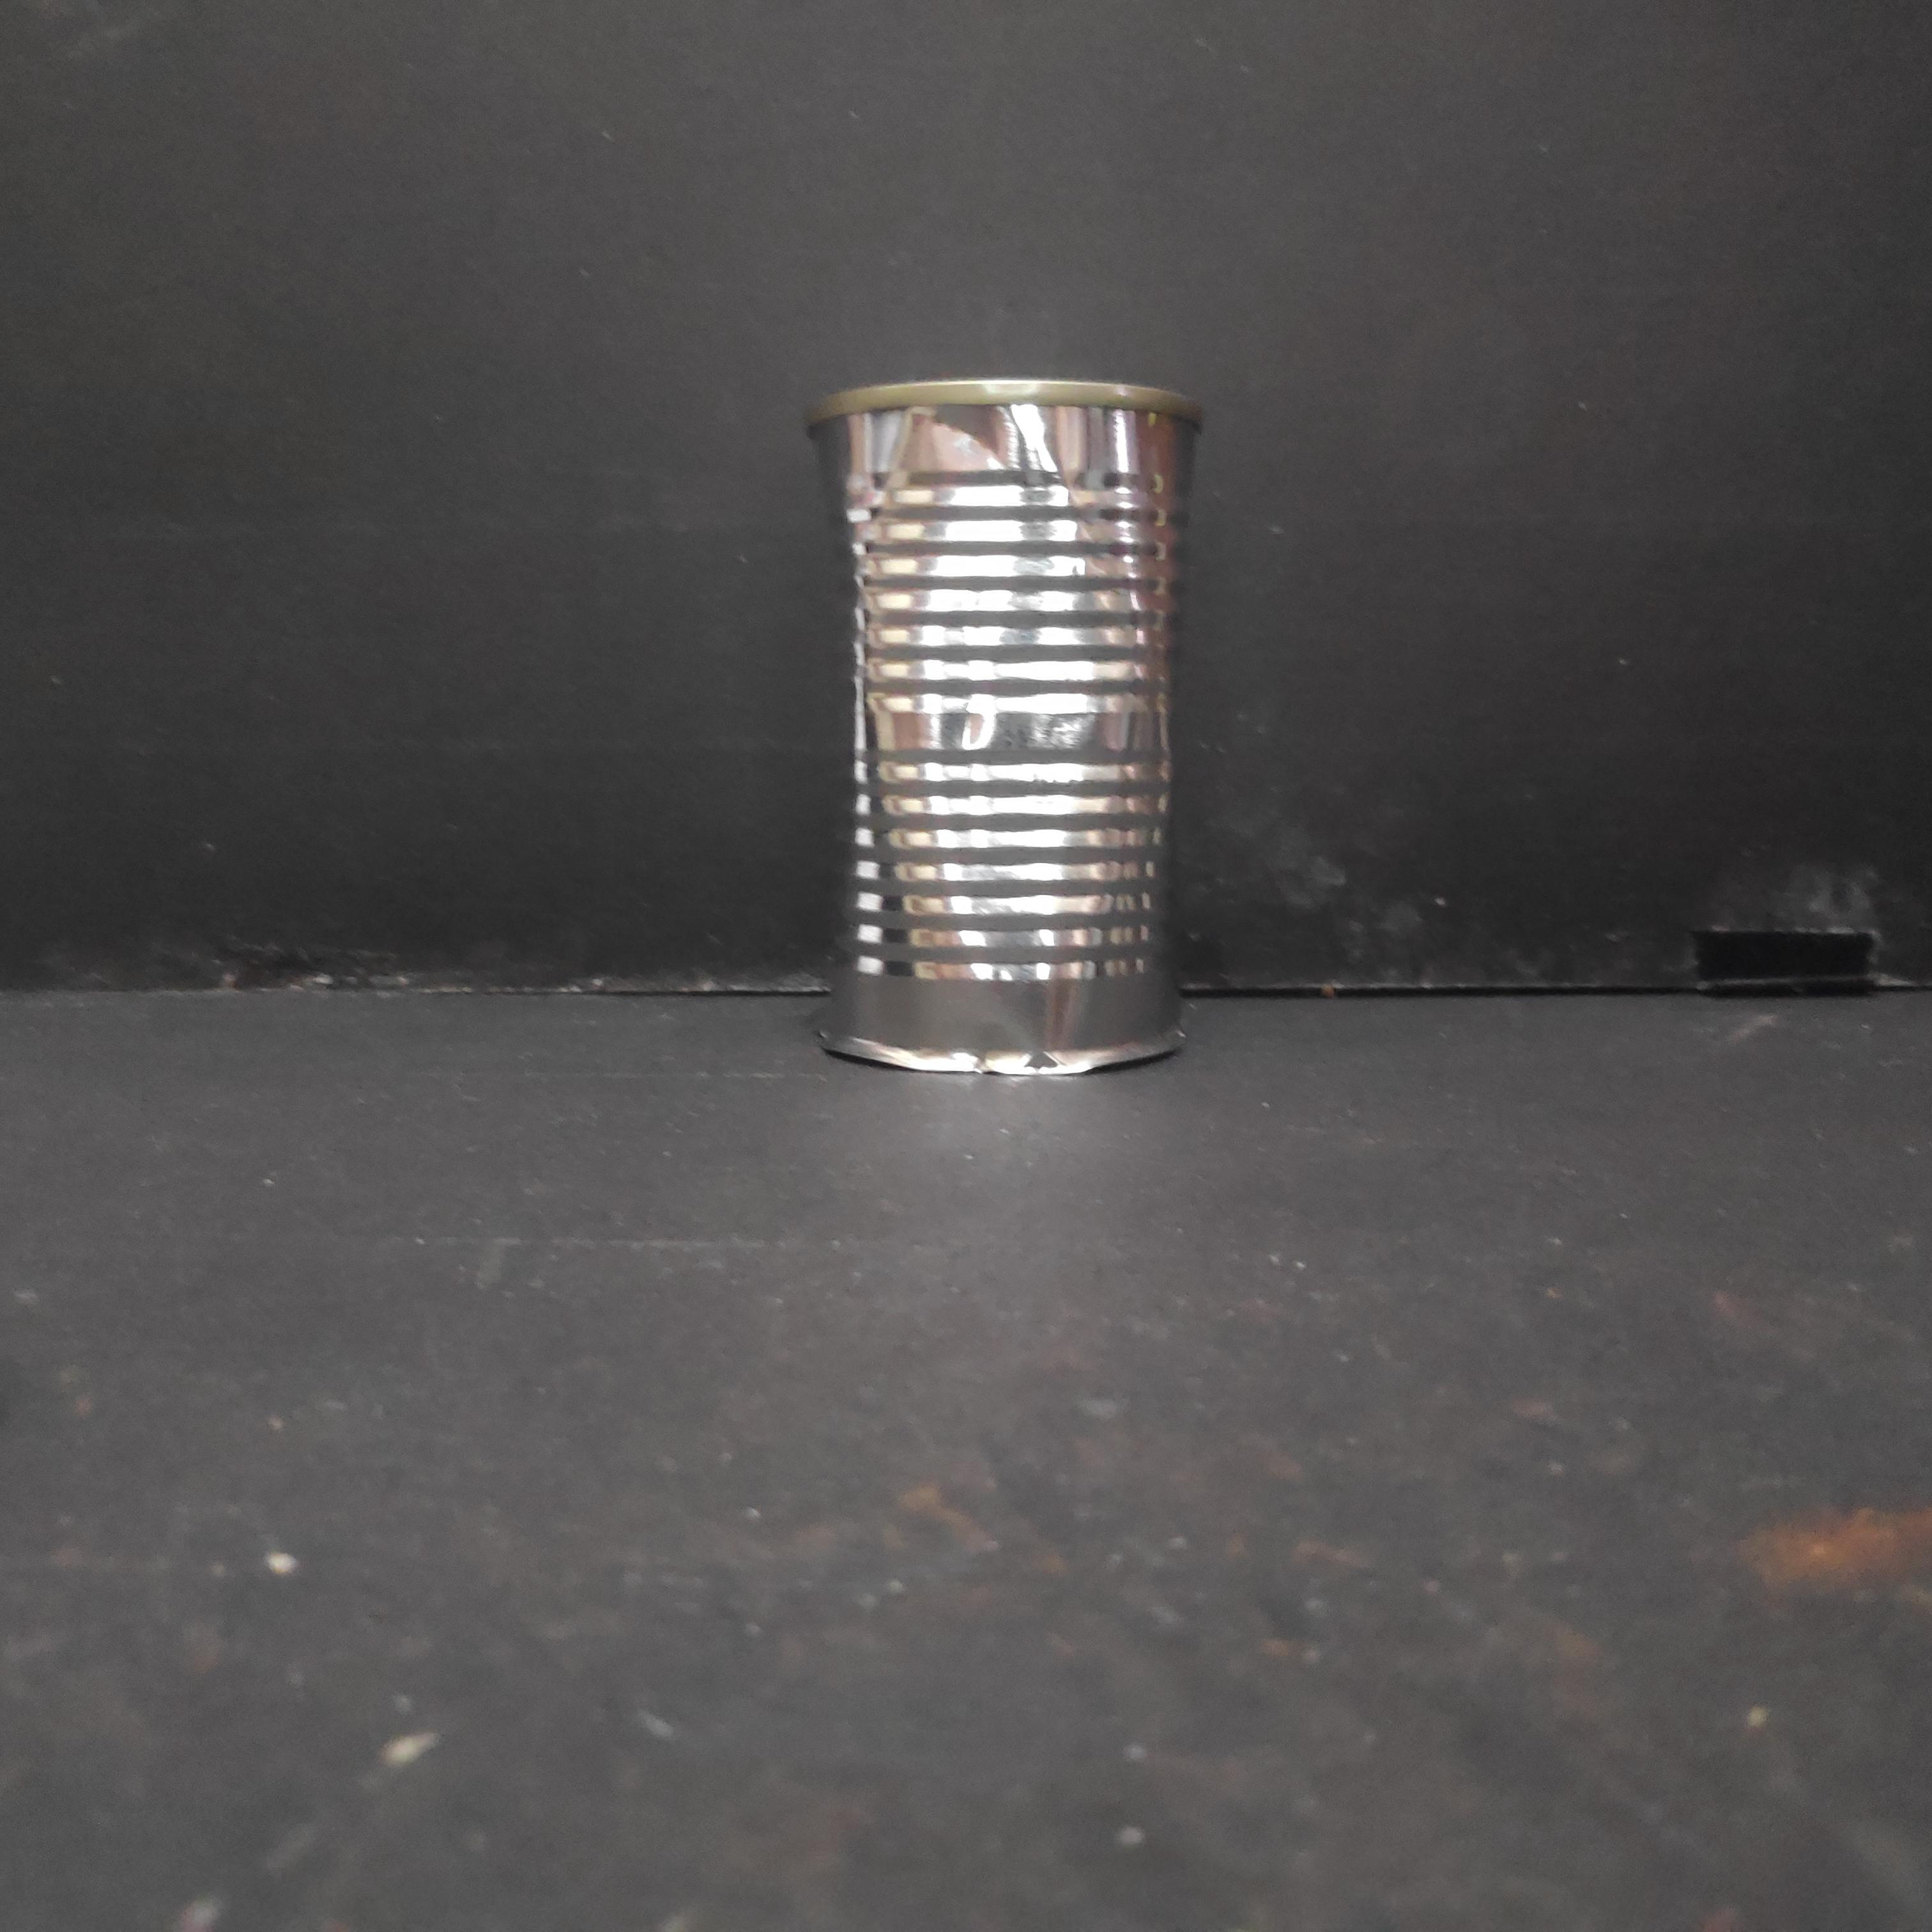Minor Defect: (807, 372, 1203, 1085)
